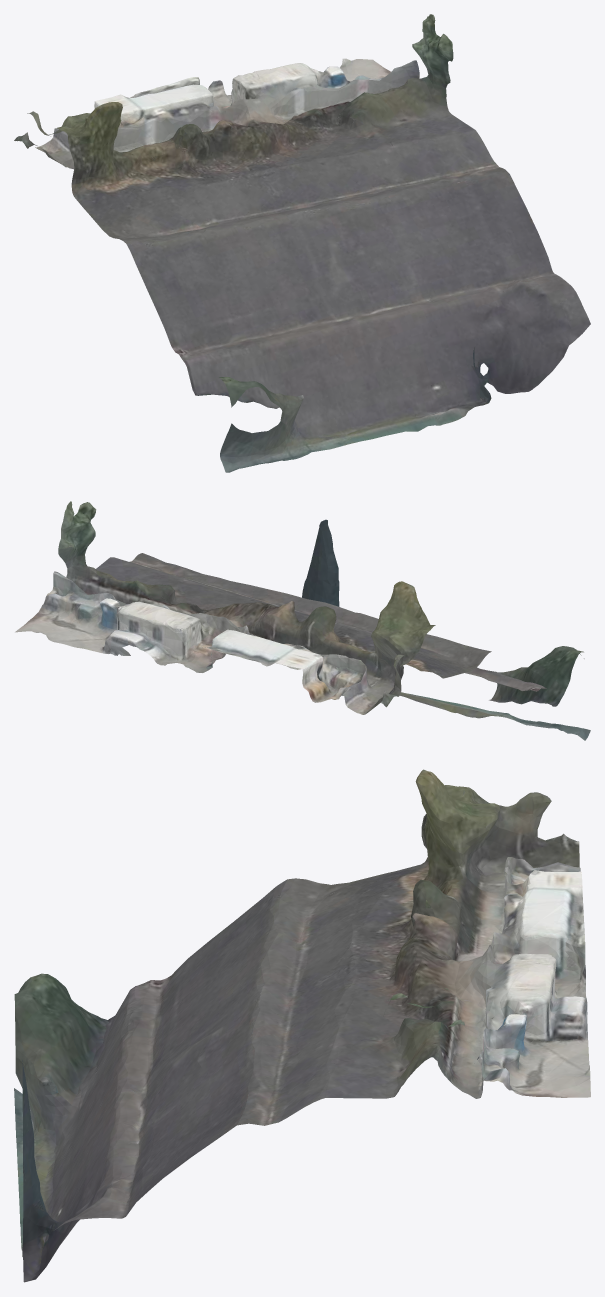
File: Tile_+012_+009_L21_0000003100.glb
3 views of the same model, one above another, from view 1: azimuth 30°, elevation 25°; view 2: azimuth 150°, elevation 25°; view 3: azimuth 270°, elevation 25° (orthographic). The views are drawn at different scales.
Parts seen in each view (by area): view 1: rtc; view 2: rtc; view 3: rtc.
Boxes of the visible parts, x1,y1,x2,y2 form: rtc: [14, 14, 590, 472]; rtc: [15, 501, 590, 740]; rtc: [14, 769, 590, 1282].
Size of the model in its own units: 32.01 by 21.63 by 32.01.
Materials: 1 (1 with a texture image).
